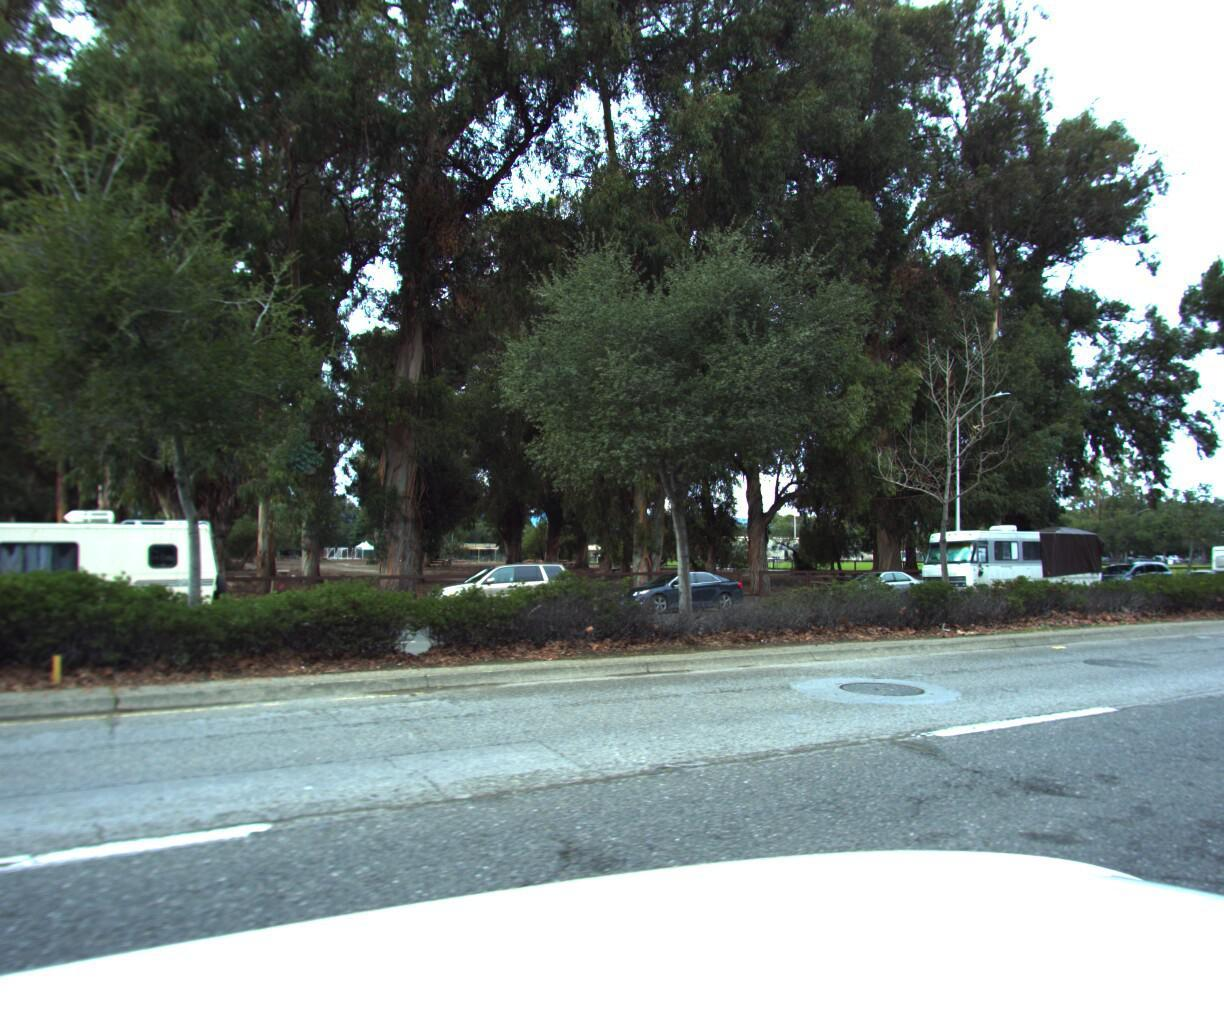car: (412, 557, 585, 624), (604, 565, 752, 616), (815, 565, 936, 607)
other_vehicle: (903, 515, 1107, 605), (1187, 533, 1224, 587)
